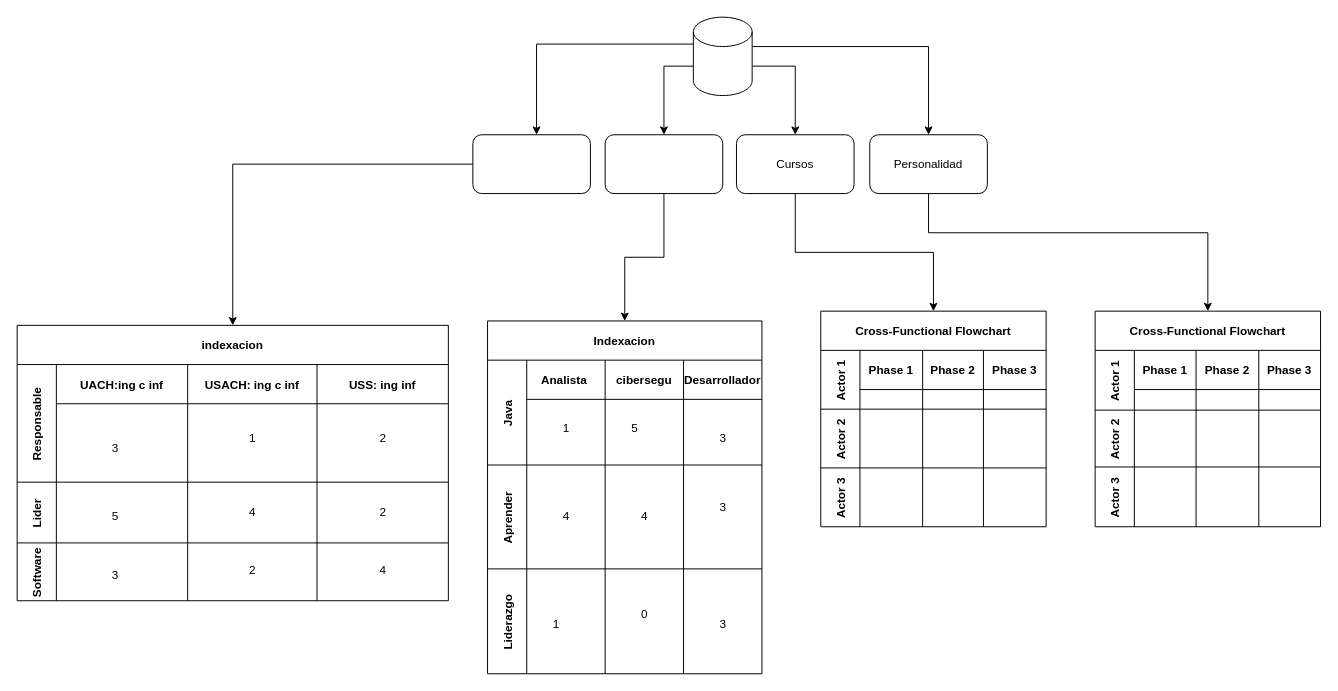
Some shapes in this 1338 by 691 pixel diagram are drawn without their labels. Each missing label, with the centre of its shape:
"Instituciones" belongs at [531,164].
"Trabajos" belongs at [663,164].
